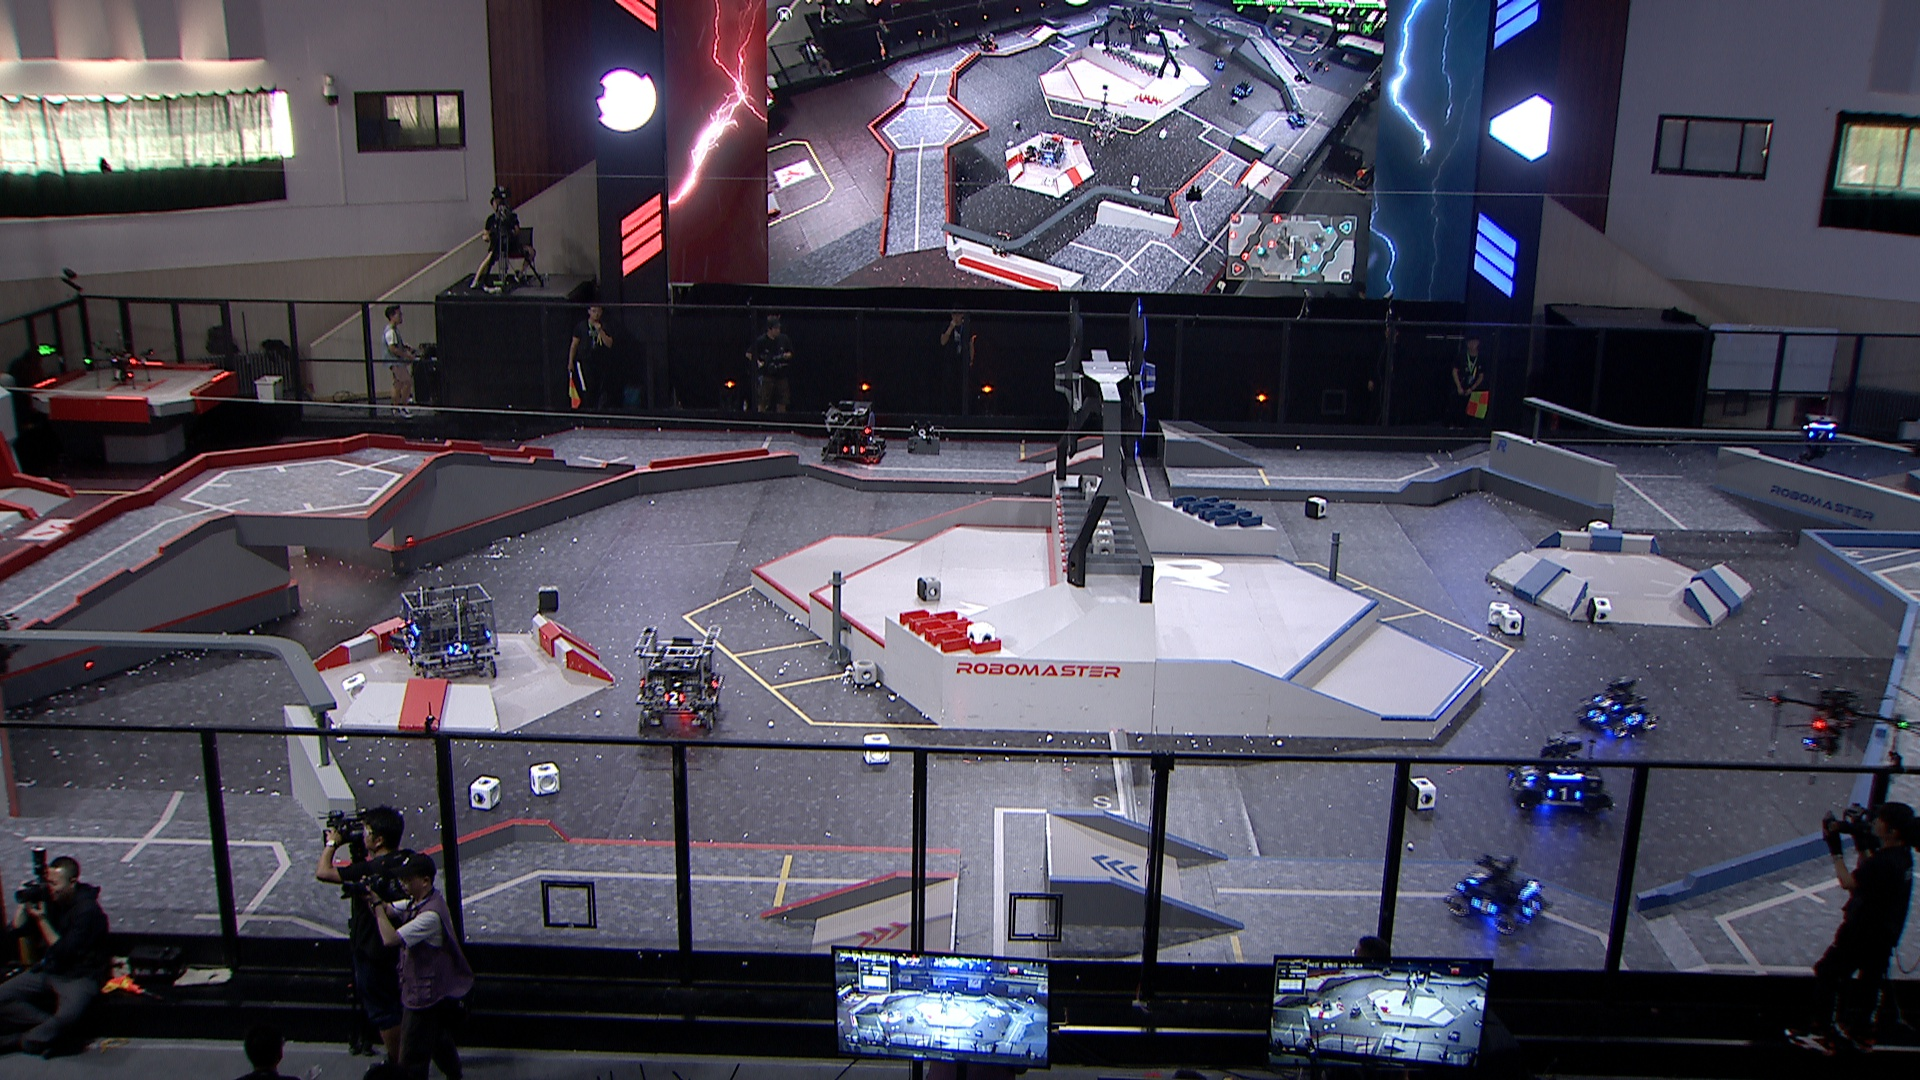armor: (1547, 785, 1584, 803), (1470, 895, 1501, 916), (1593, 695, 1621, 712), (1626, 709, 1646, 731), (662, 688, 684, 707), (840, 443, 868, 458), (1522, 899, 1543, 918), (1519, 765, 1538, 785), (1465, 872, 1487, 887), (1586, 711, 1610, 725), (1506, 773, 1523, 793), (1808, 429, 1833, 442), (447, 642, 469, 655), (405, 633, 418, 650), (873, 442, 885, 456), (711, 674, 721, 690)
car: (632, 624, 724, 737), (401, 582, 500, 683), (1505, 736, 1609, 818), (1449, 853, 1549, 934), (1575, 676, 1662, 741), (820, 398, 885, 465), (386, 603, 451, 657)
ignore: (1091, 115, 1121, 145), (1039, 142, 1067, 167), (992, 229, 1011, 258), (1234, 82, 1255, 102), (978, 33, 998, 51), (1288, 111, 1305, 129), (1025, 145, 1040, 164), (1211, 57, 1228, 73)
watcher: (1803, 413, 1840, 462)
